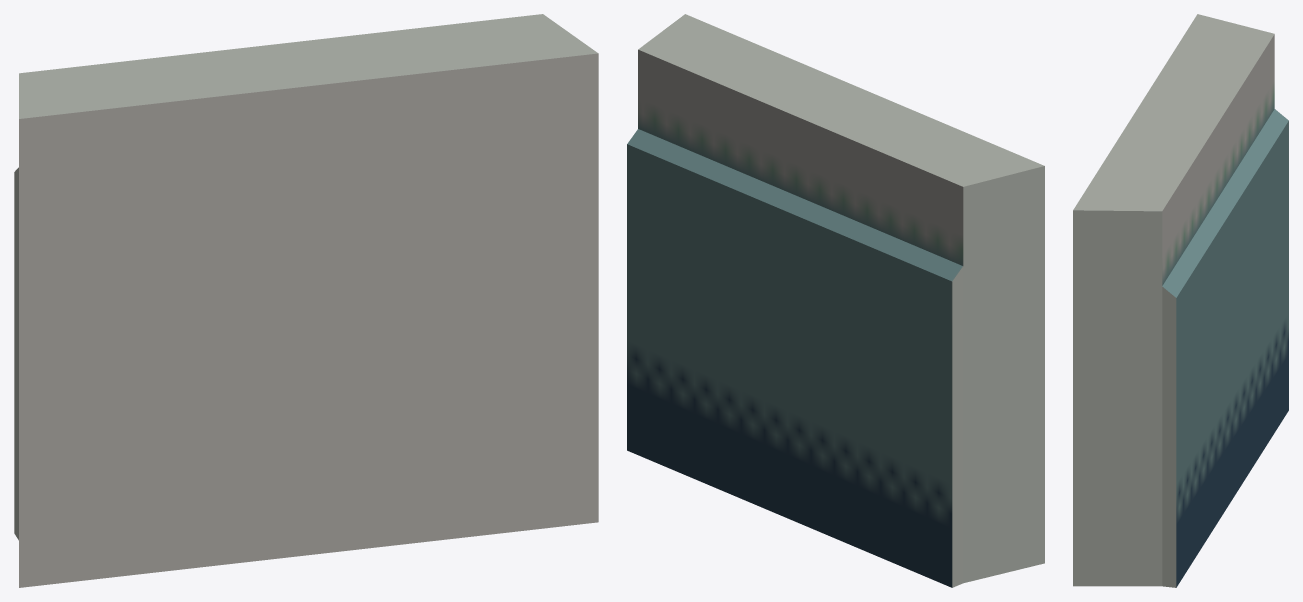
The model's file is half_wall.fbx.
3 views of the same model, side by side, from view 1: azimuth 30°, elevation 25°; view 2: azimuth 150°, elevation 25°; view 3: azimuth 270°, elevation 25° (orthographic). The views are drawn at different scales.
Parts seen in each view (by area): view 1: plain_wall; view 2: plain_wall; view 3: plain_wall.
Boxes of the visible parts, x1,y1,x2,y2 form: plain_wall: [14, 14, 598, 587]; plain_wall: [627, 14, 1044, 587]; plain_wall: [1073, 14, 1288, 587].
Size of the model in its own units: 113 by 99.87 by 51.97.
1 material, 1 textured.
